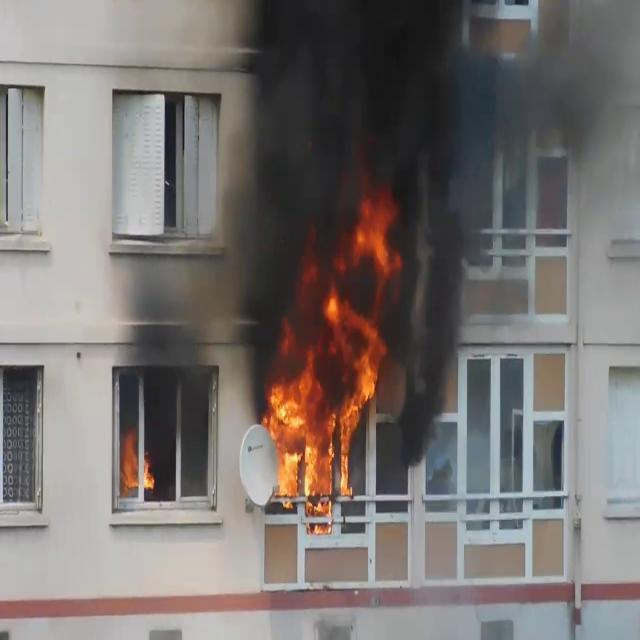Fire: (261, 287, 385, 516), (120, 422, 156, 497)
Smoke: (191, 1, 638, 372), (476, 0, 640, 226)
